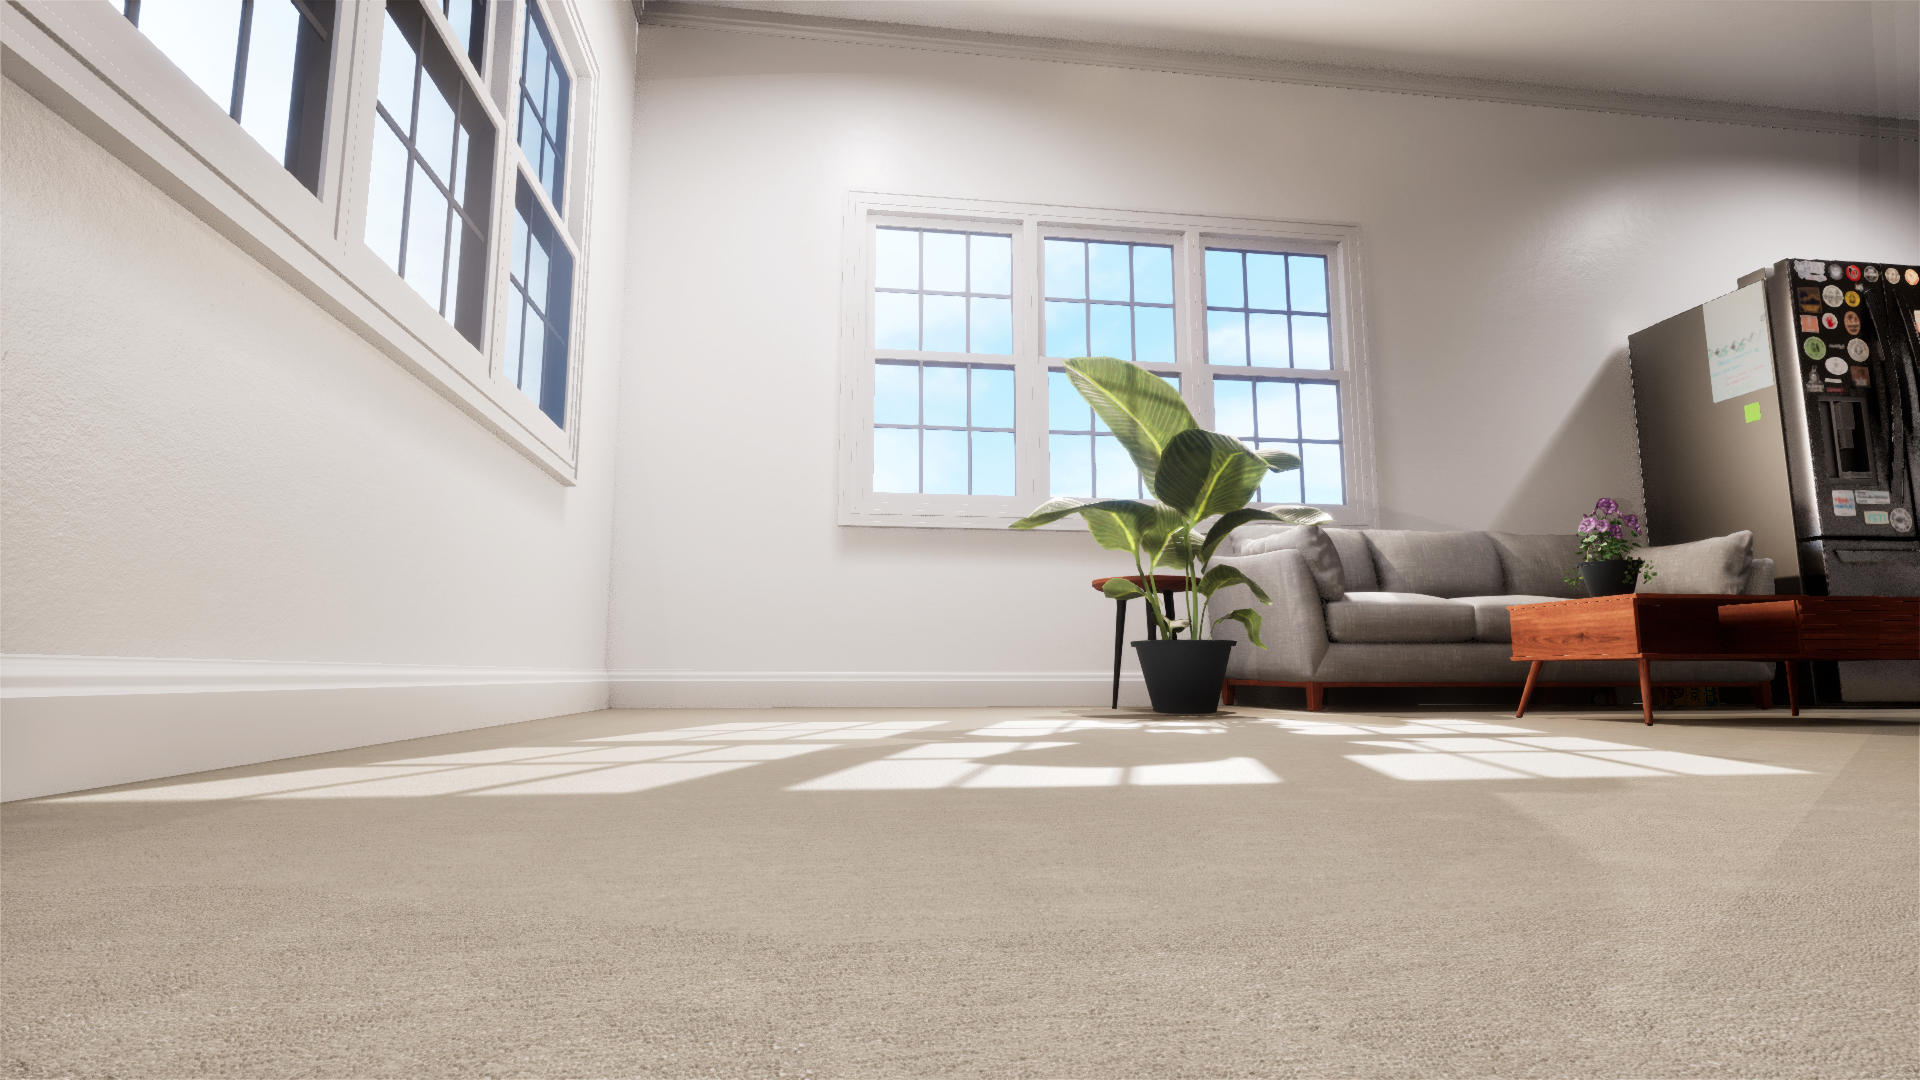cheerios: (1651, 687, 1720, 706)
soup: (1590, 692, 1617, 706)
